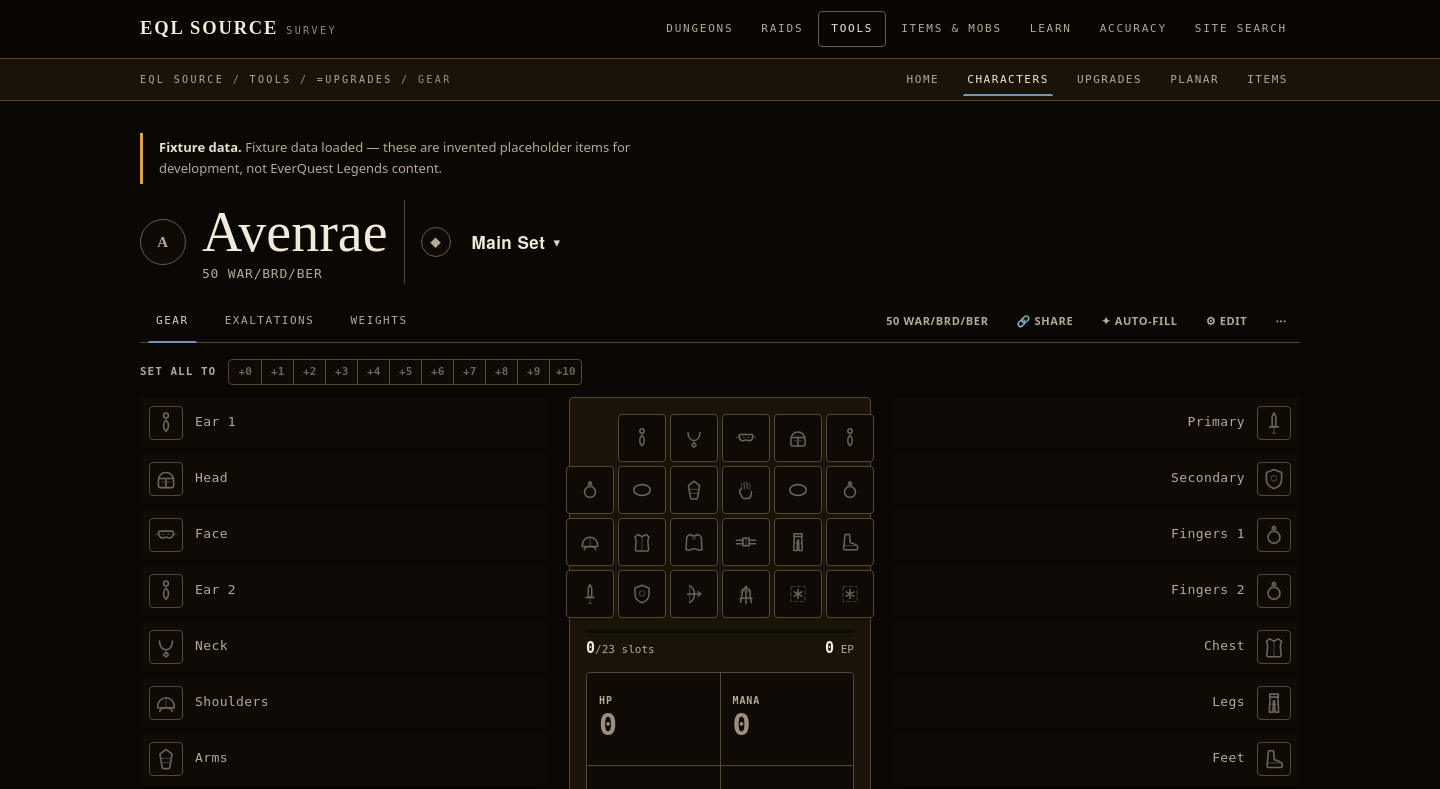
the three filter controls › never asks for a ranking at all when era, source or No Drop change
Later steps or results of the test are not shown.
Click the button "Head" at (166, 478), box left=141, top=454, right=536, bottom=504
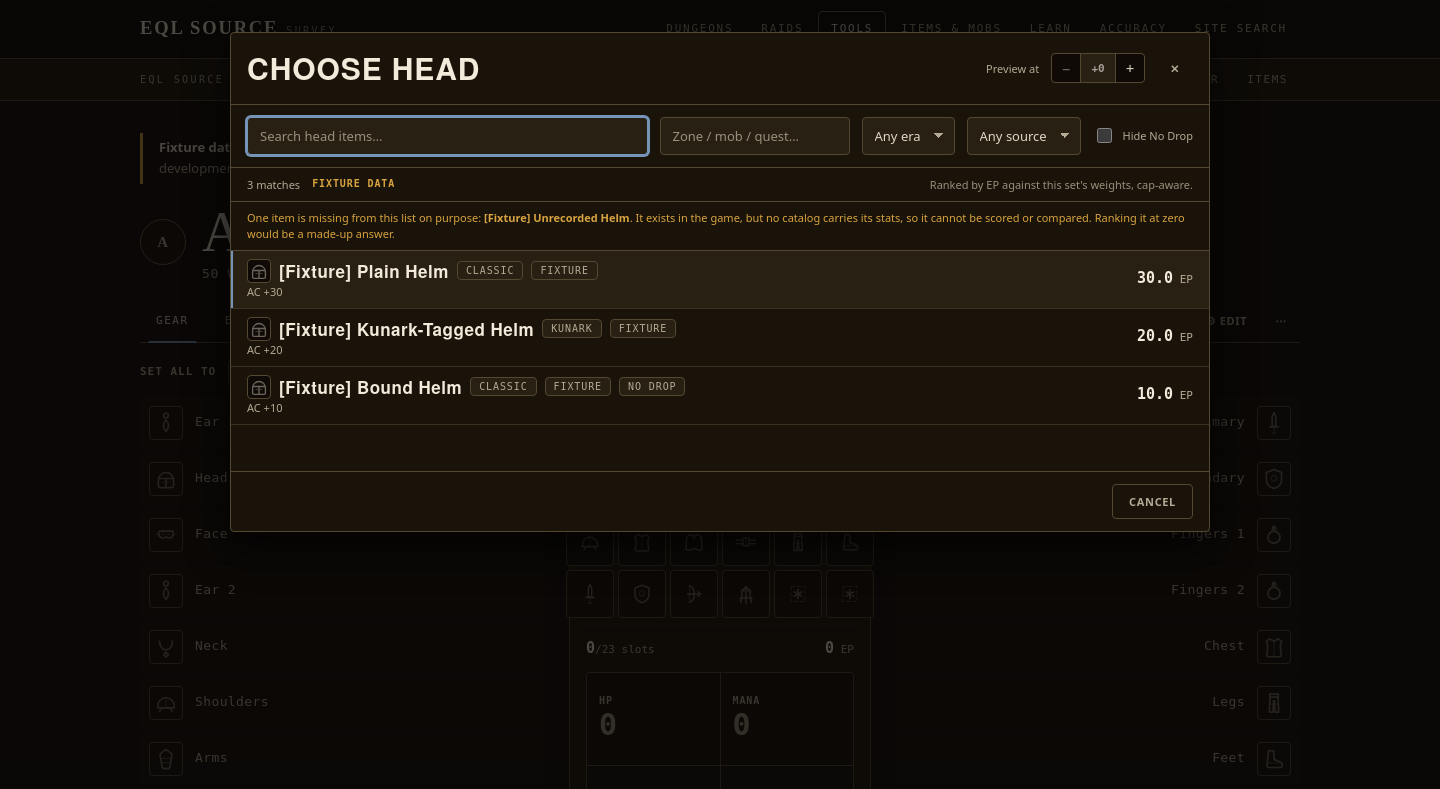
Select "Kunark" in the dropdown named "Filter by era" at (908, 136), box left=862, top=116, right=954, bottom=155
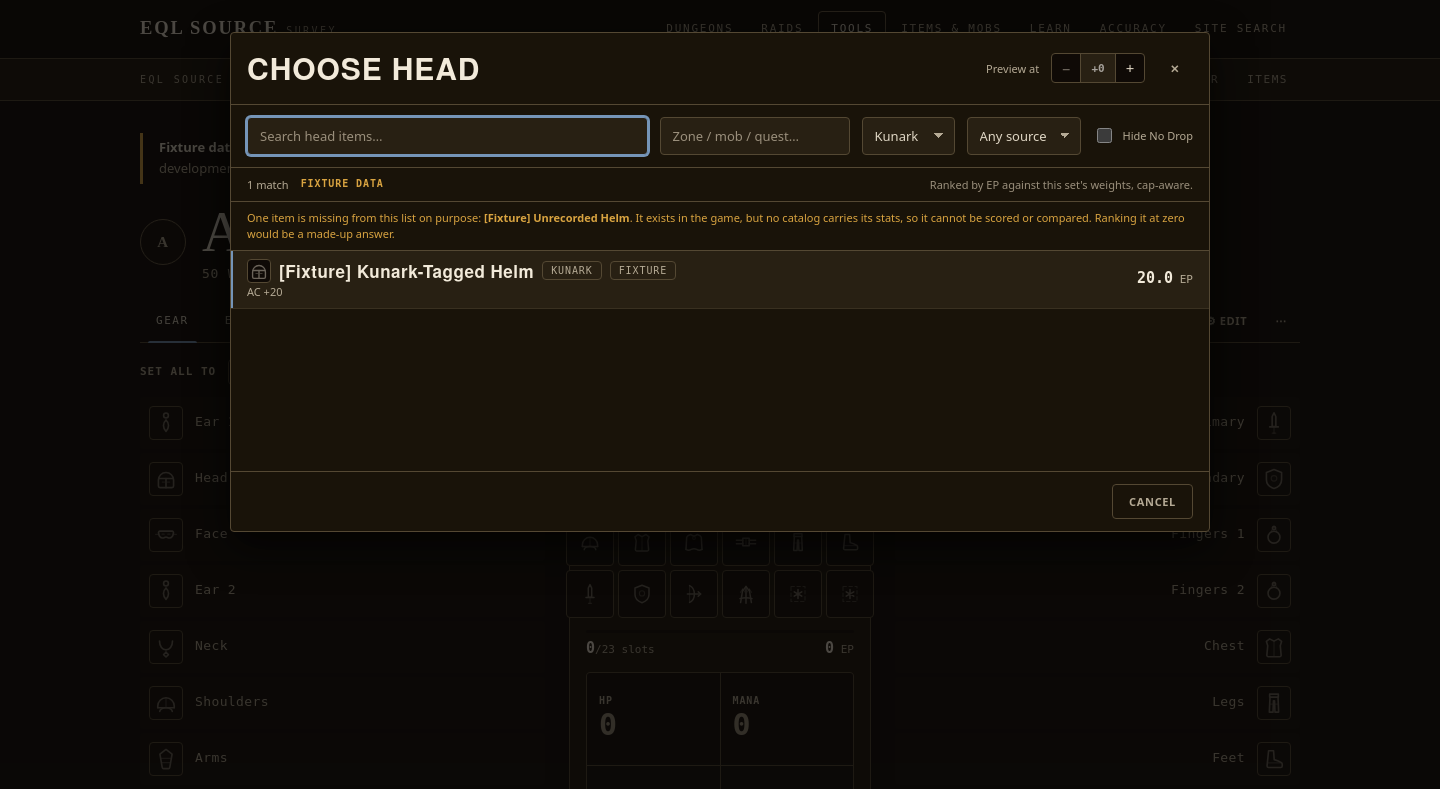
Select "Any era" in the dropdown named "Filter by era" at (908, 136), box left=862, top=116, right=954, bottom=155
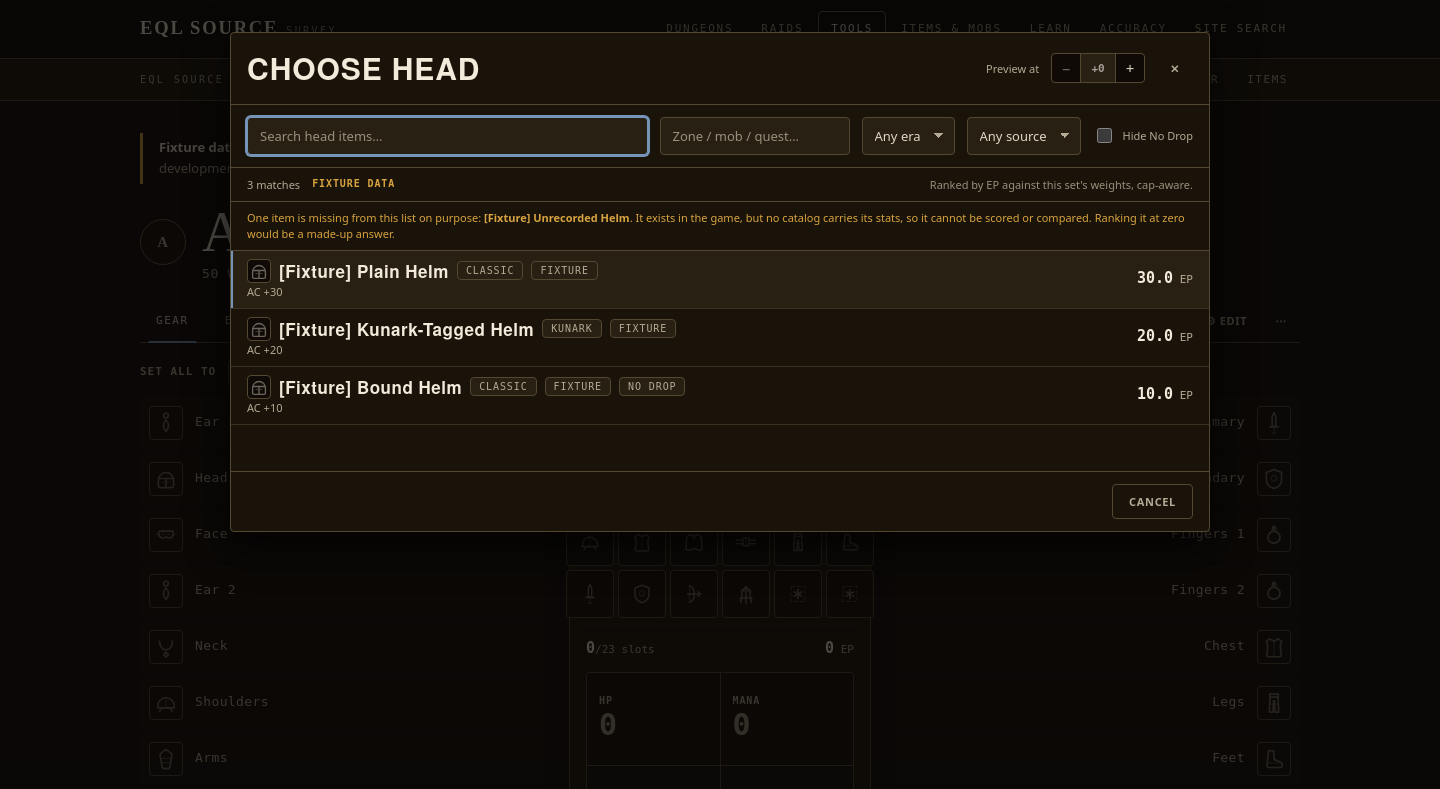
Expected: the text "Hide No Drop" is shown, left=1092, top=125, right=1193, bottom=146
Click the checkbox labelled "Hide No Drop" at (1104, 136), box left=1096, top=128, right=1112, bottom=143
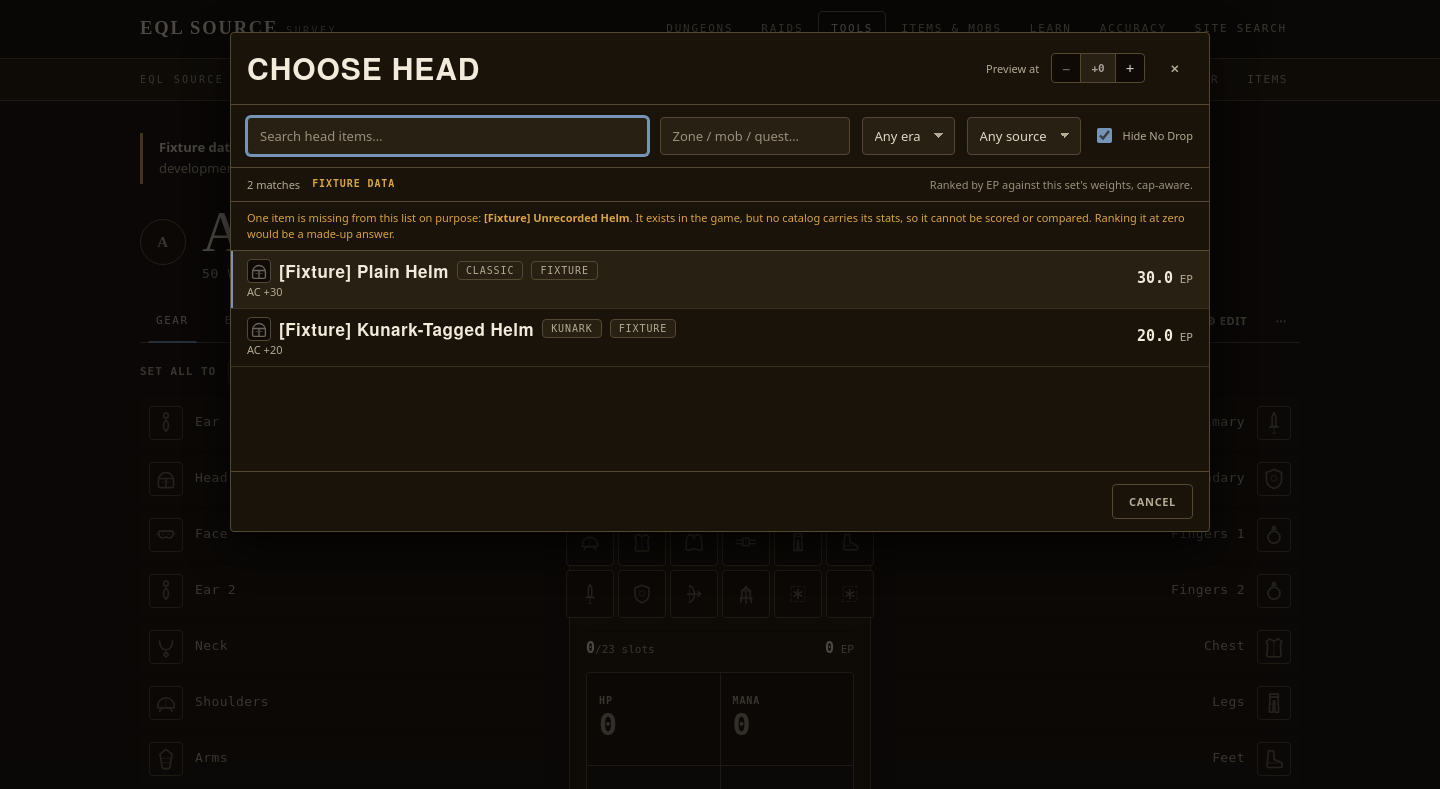
Expected: the text "Hide No Drop" is shown, left=1092, top=125, right=1193, bottom=146
